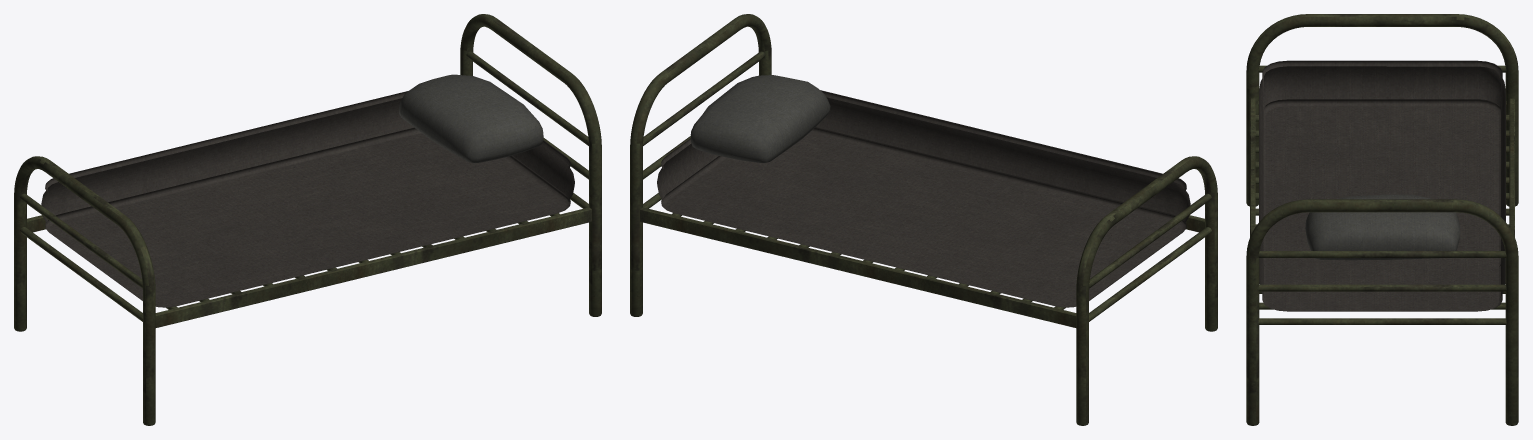
Rendered from bed_1.obj.
The picture shows the model from 3 angles, left to right: view 1: azimuth 30°, elevation 25°; view 2: azimuth 150°, elevation 25°; view 3: azimuth 270°, elevation 25°; orthographic projection.
Visible parts, largest first — view 1: bed_1; view 2: bed_1; view 3: bed_1.
Part boxes in pixels (box(x1,y1,x2,y2)): bed_1: box(14, 14, 601, 425); bed_1: box(630, 14, 1217, 425); bed_1: box(1246, 14, 1518, 425).
Size of the model in its own units: 2.87 by 1.34 by 1.47.
